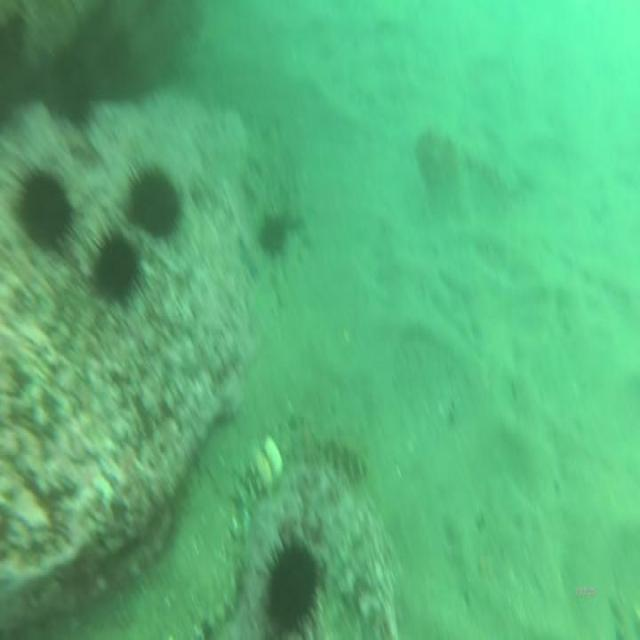echinus: (264, 535, 322, 640), (17, 161, 74, 259), (89, 220, 143, 313), (124, 166, 182, 240), (260, 207, 287, 261)
holothurian: (318, 426, 374, 486)
